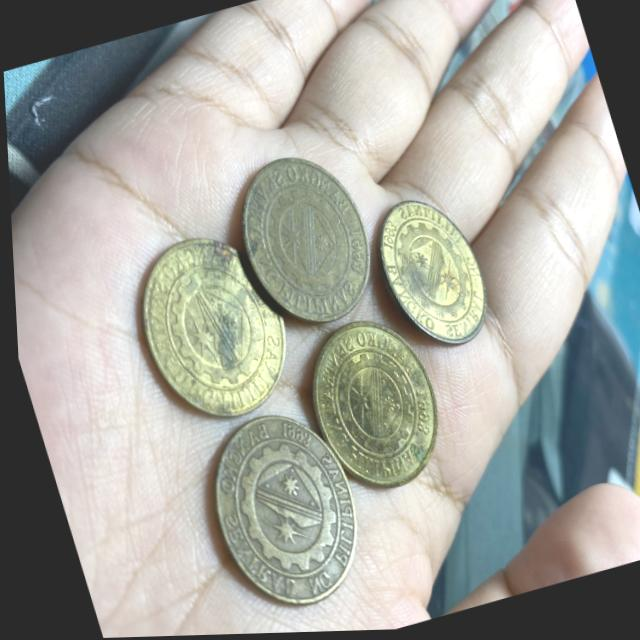25Cent_Old_Back: (190, 410, 369, 622), (118, 236, 289, 420), (221, 142, 377, 329), (295, 310, 449, 499), (366, 193, 497, 357)
